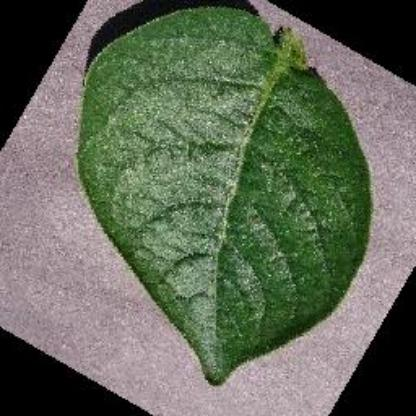Healthy-plant: (69, 2, 379, 390)
